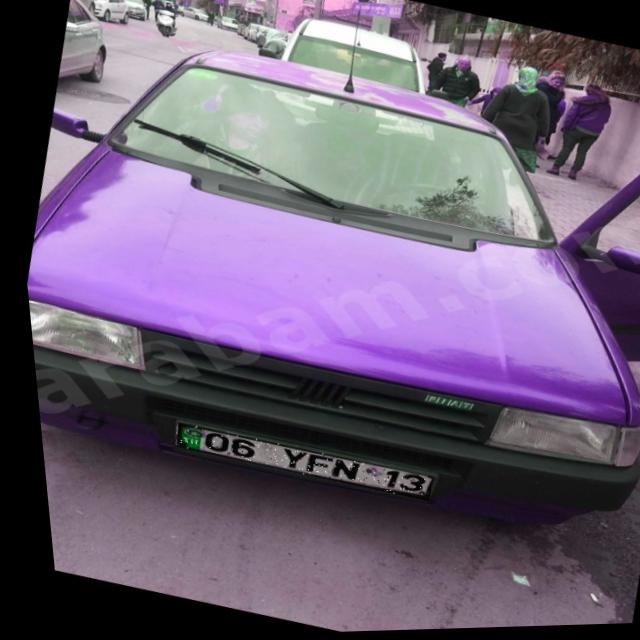license_plate: (163, 417, 424, 509)
